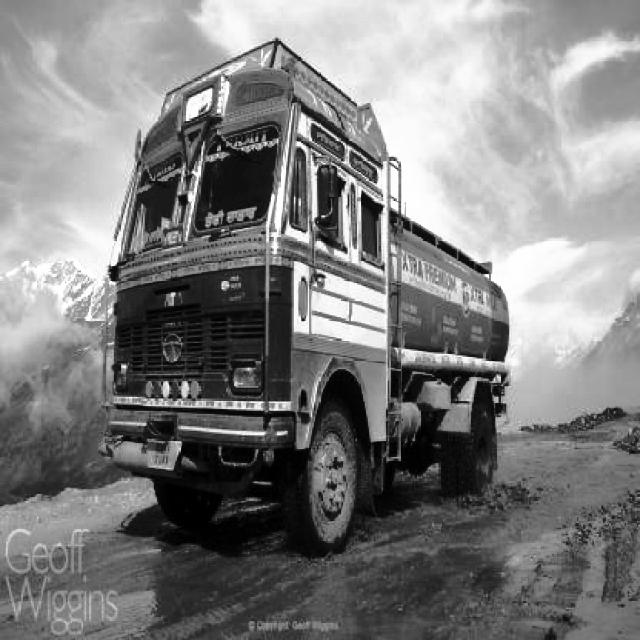HCV: (120, 77, 504, 525)
